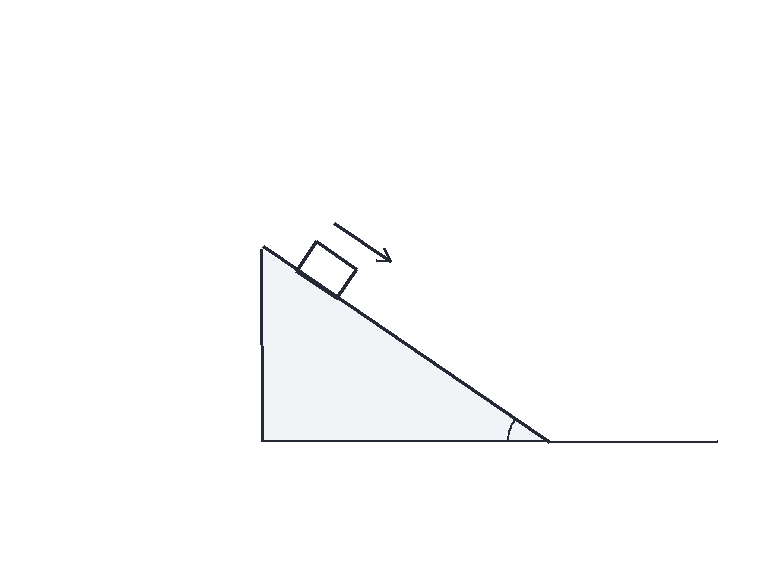block: (294, 239, 358, 300)
ramp: (260, 246, 550, 443)
